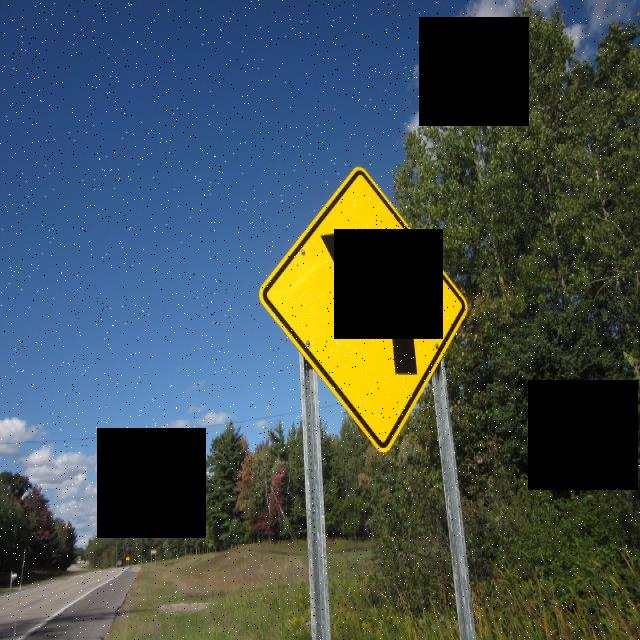warning: (262, 165, 468, 451)
